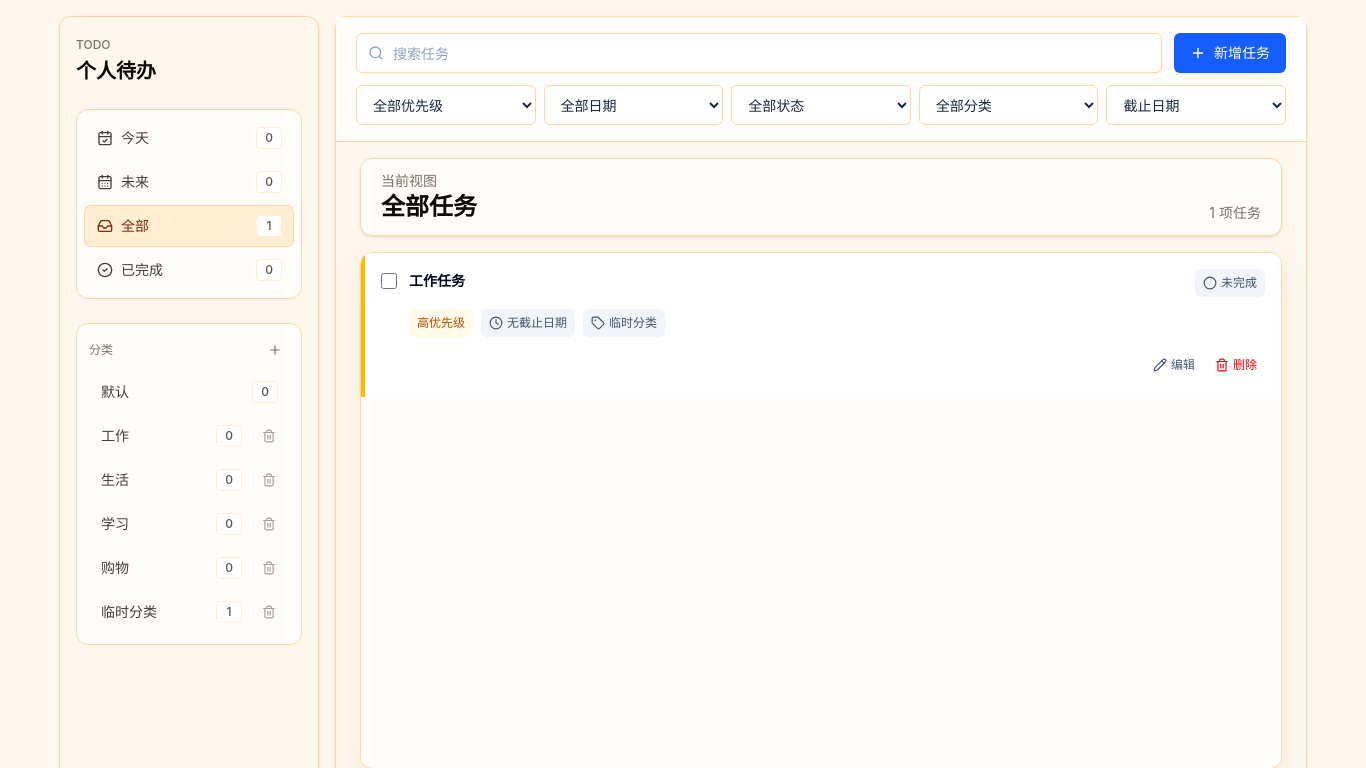
it: App layout › supports global category add, filter, and delete with fallback to default
The image size is (1366, 768).
Click the button named "新增分类" at (275, 350), box left=261, top=336, right=289, bottom=364
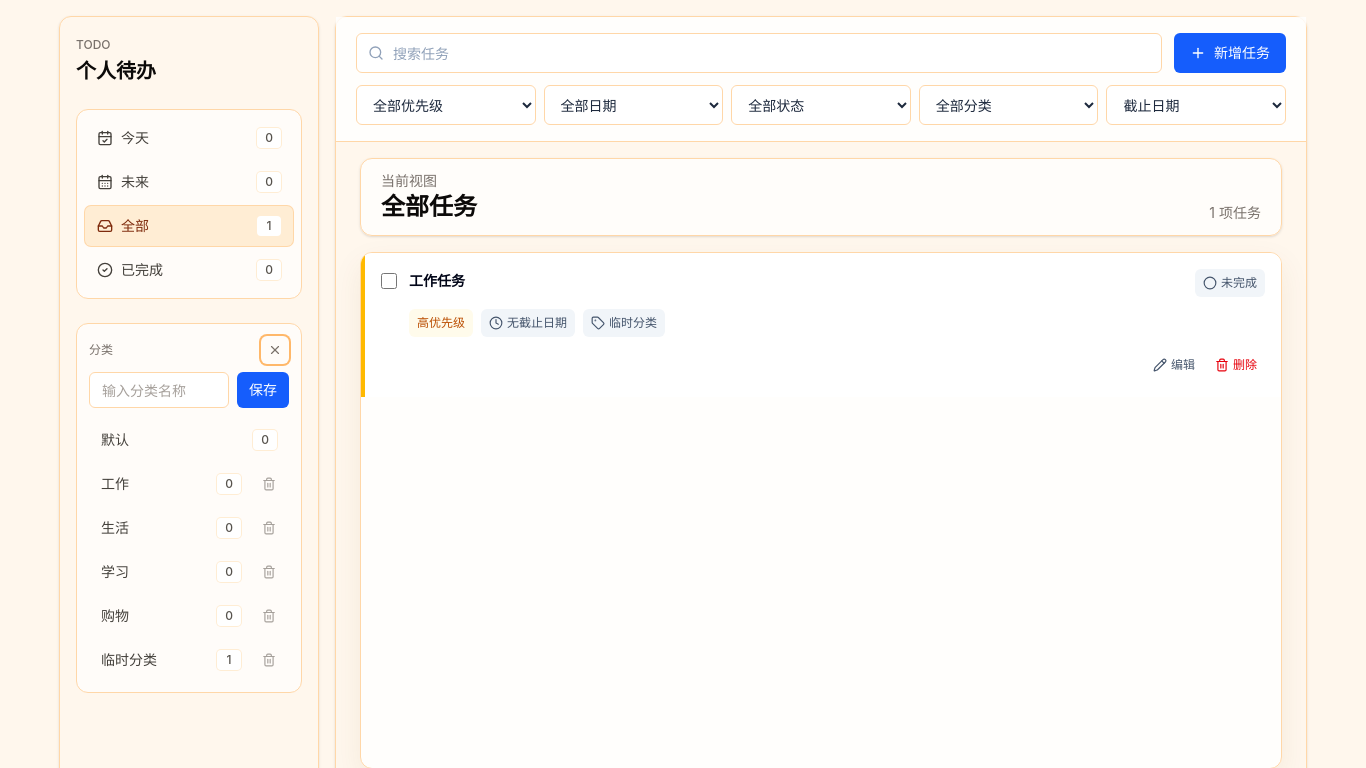
Type "旅行" into the field labelled "分类名称" at (159, 390), box left=89, top=372, right=229, bottom=408
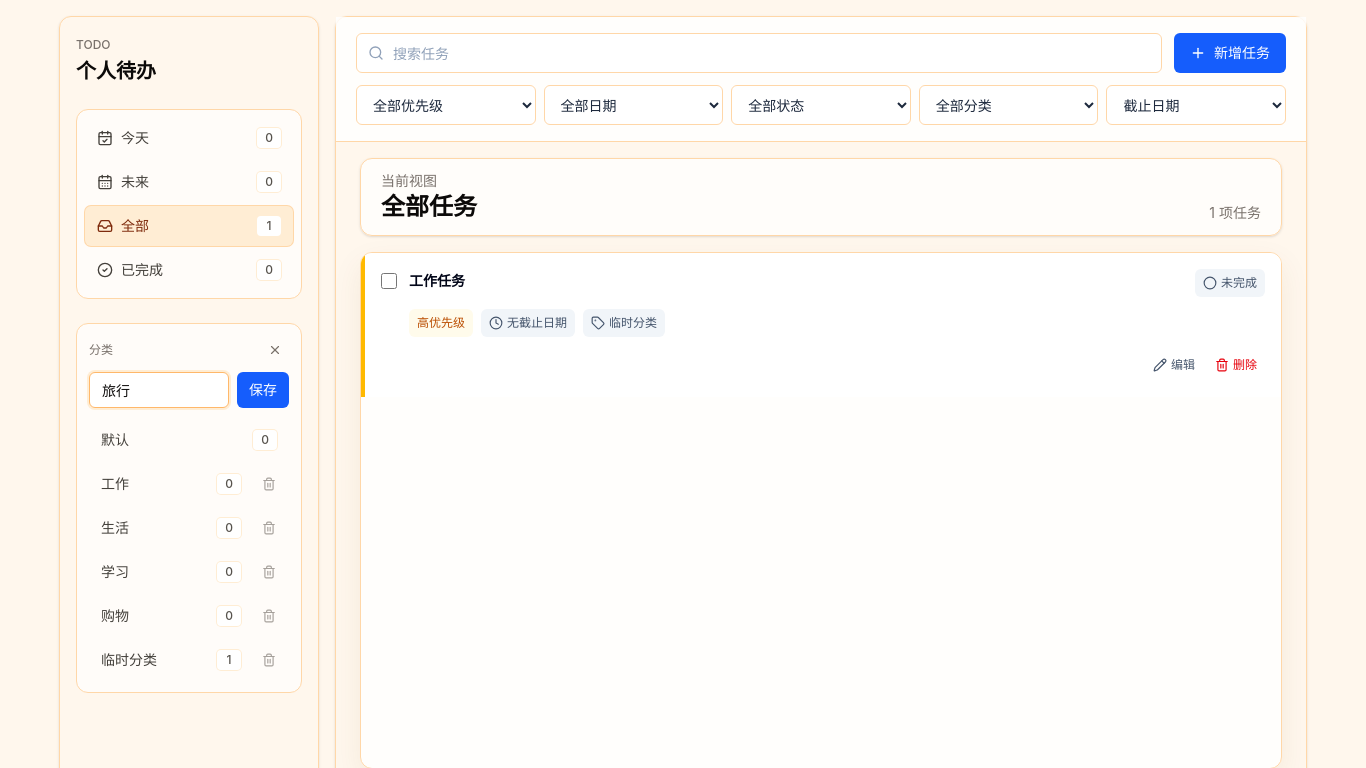
Click the button with aria-label "确认新增分类" at (263, 390), box left=237, top=372, right=289, bottom=408
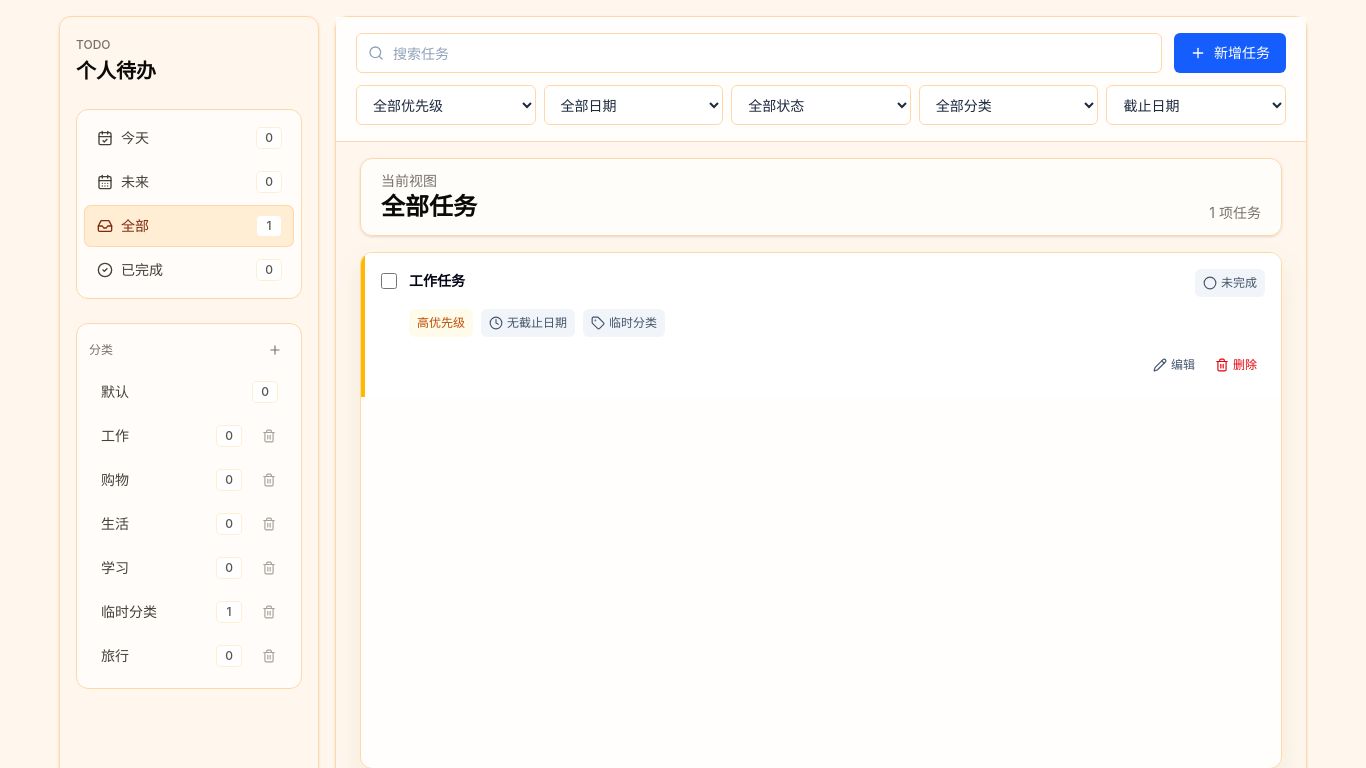
Result: the button with aria-label "筛选分类 旅行" is shown at left=93, top=638, right=249, bottom=674
Click the button with aria-label "筛选分类 临时分类" at (171, 612), box left=93, top=594, right=249, bottom=630
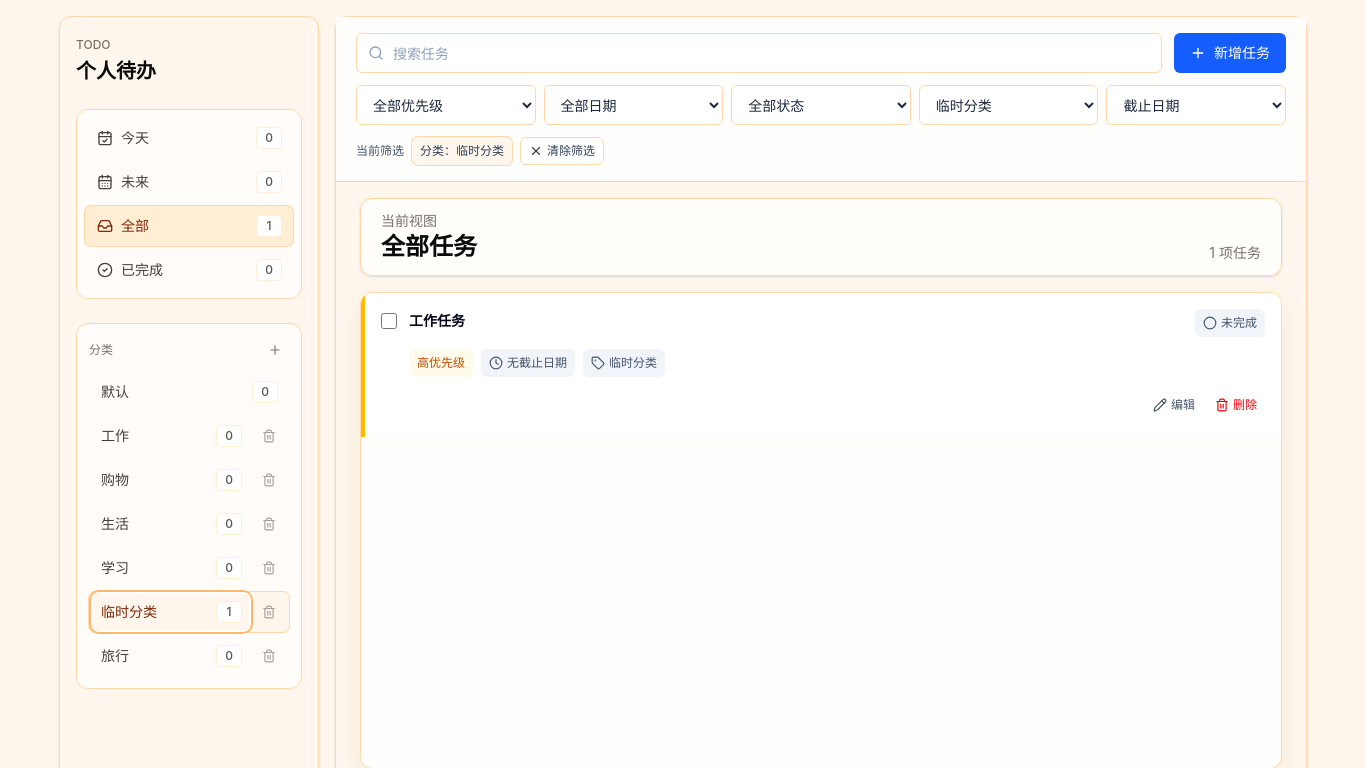
Expected: the heading "工作任务" is shown, left=409, top=309, right=465, bottom=333
Click the button named "删除分类 临时分类" at (269, 612), box left=253, top=596, right=285, bottom=628
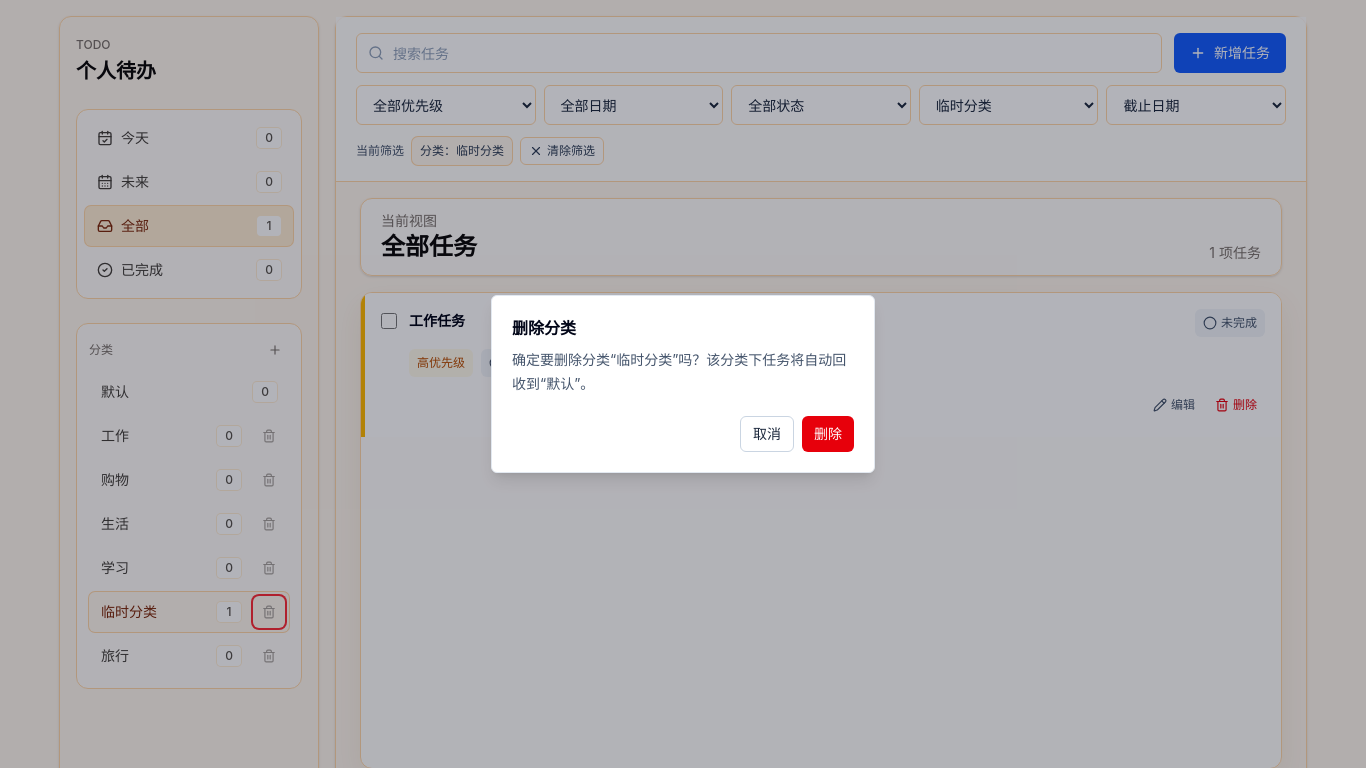
Result: the dialog "删除分类" is shown at left=491, top=295, right=875, bottom=473
Click the button "删除" at (828, 434), box left=802, top=416, right=854, bottom=452
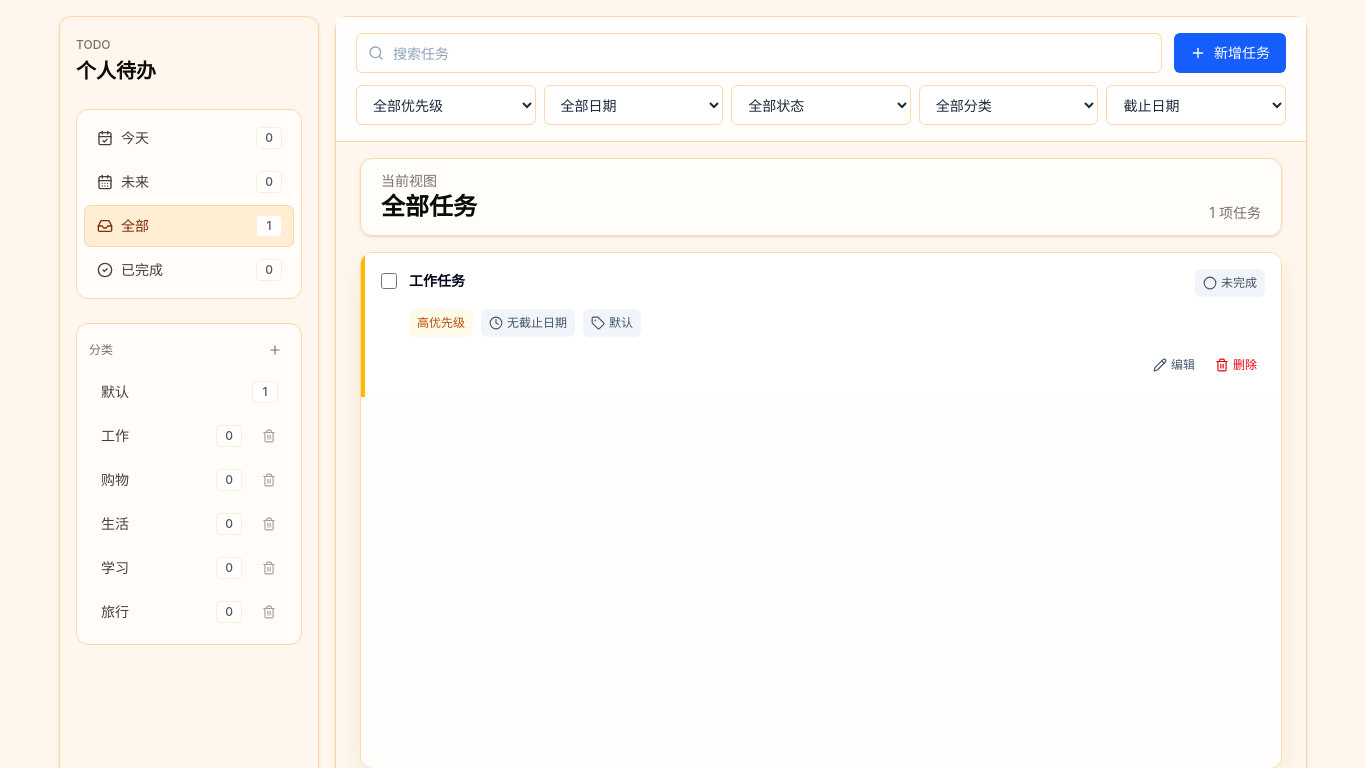
Result: the heading "删除分类" is gone
